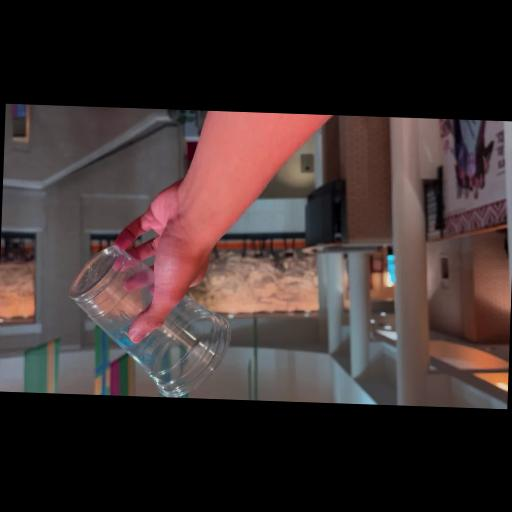lp_plastic_cup: (68, 244, 228, 397)
